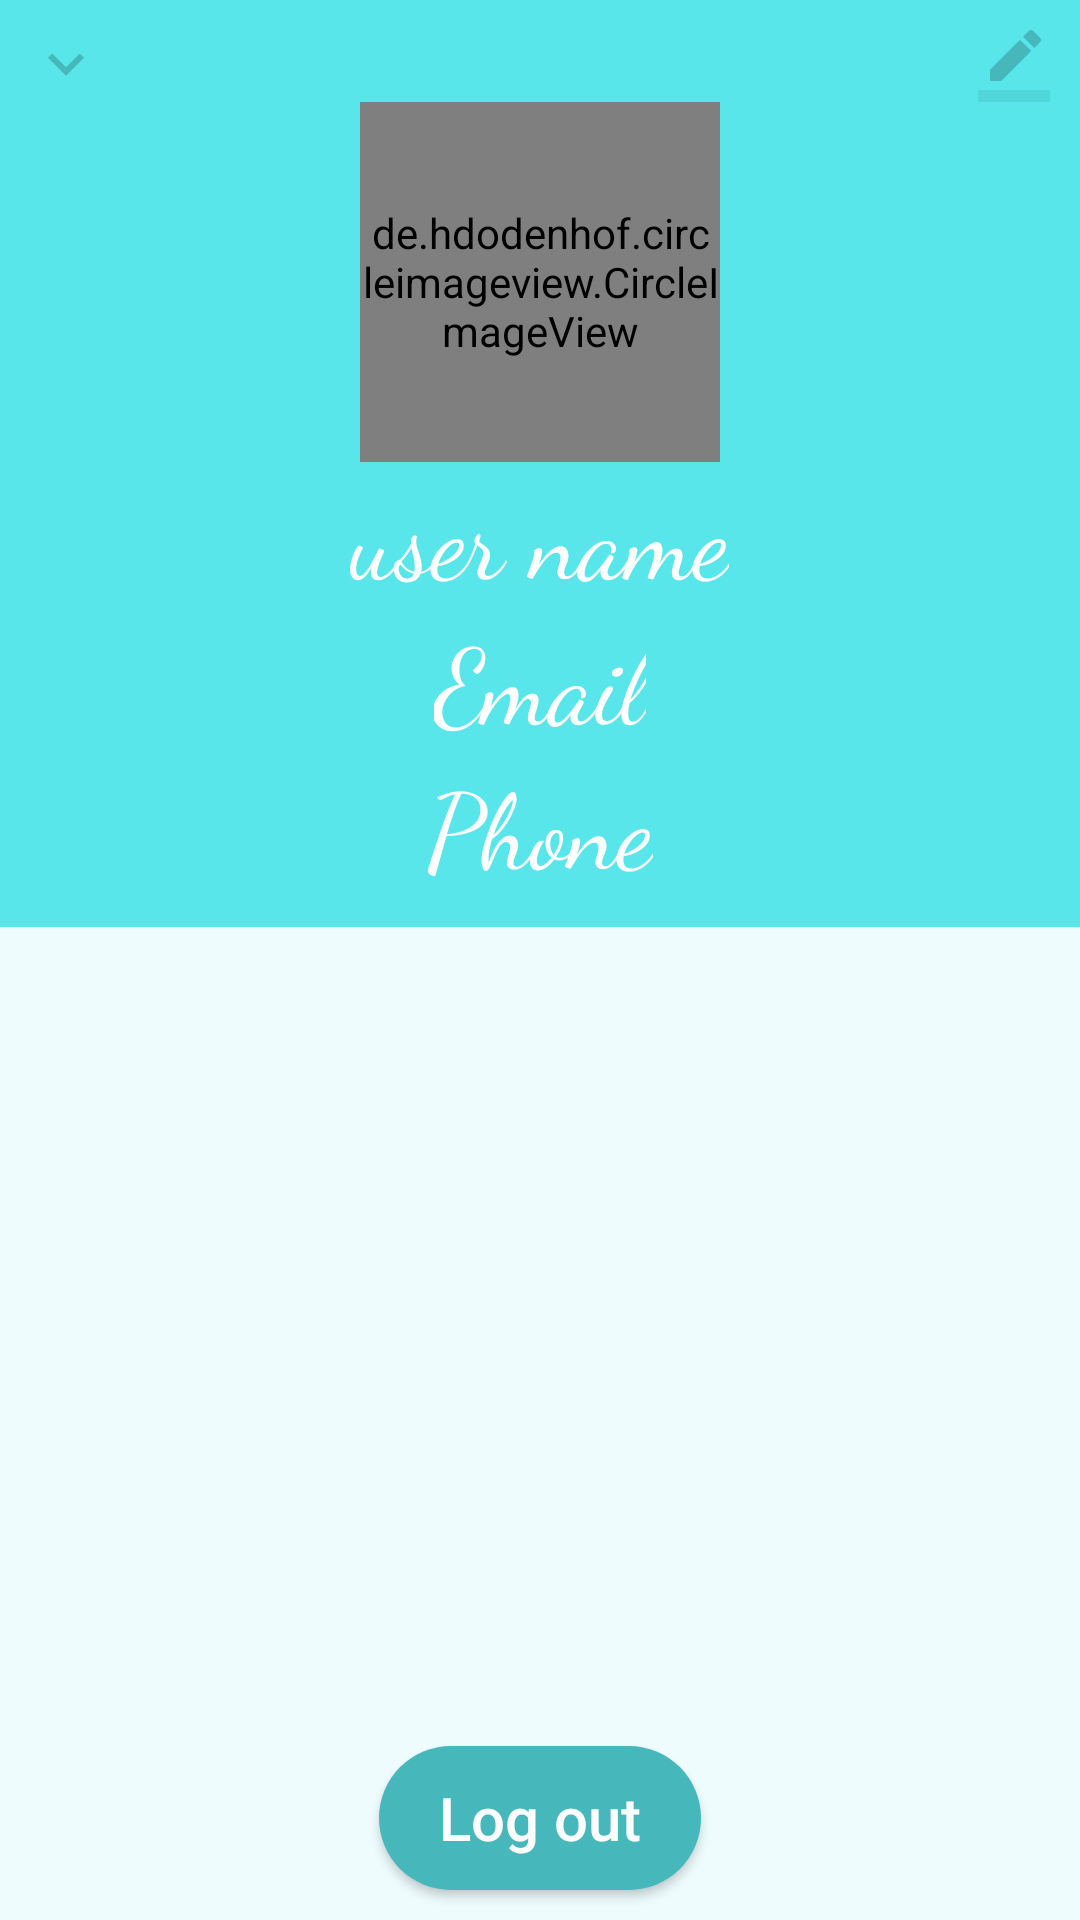

Named icons in this screenshot (1080px x 1920px) and their bounding boxes, (x1, y1, x2, y2):
arrow down: (48, 54, 84, 75)
